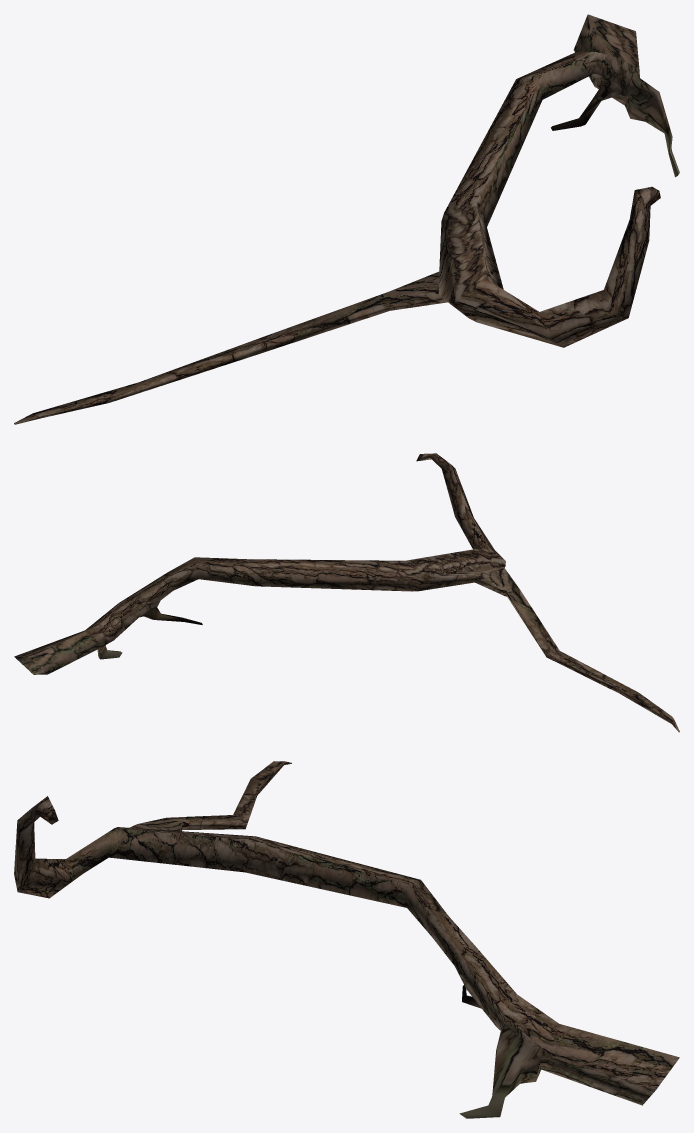
File: pm-love-death-log.glb
The picture shows the model from 3 angles, top to bottom: view 1: azimuth 30°, elevation 25°; view 2: azimuth 150°, elevation 25°; view 3: azimuth 270°, elevation 25°; orthographic projection. The views are drawn at different scales.
Visible parts, largest first — view 1: LoveDeath_Log_Art; view 2: LoveDeath_Log_Art; view 3: LoveDeath_Log_Art.
Part boxes in pixels (x1,y1,x2,y2): LoveDeath_Log_Art: [14, 14, 679, 424]; LoveDeath_Log_Art: [14, 453, 679, 732]; LoveDeath_Log_Art: [14, 761, 679, 1118].
Bounding box in the file's own units: 10.35 × 2.57 × 7.68.
1 material, 1 textured.
